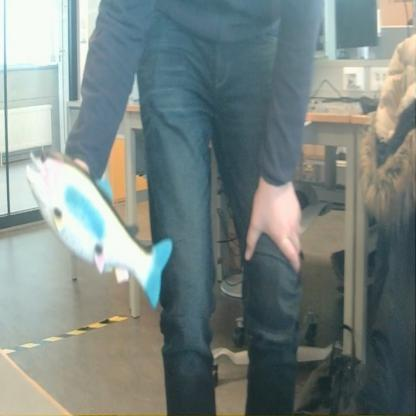rubberfish: (22, 134, 174, 313)
